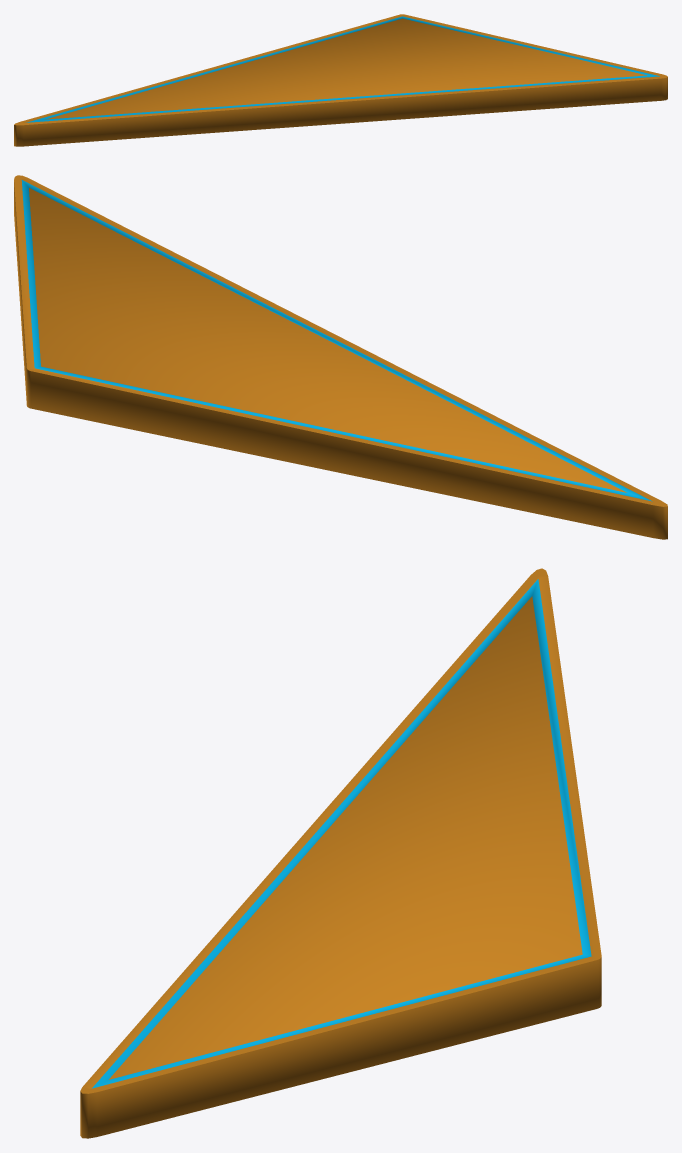
File: Re_Slingshot.fbx
3 views of the same model, one above another, from view 1: azimuth 30°, elevation 25°; view 2: azimuth 150°, elevation 25°; view 3: azimuth 270°, elevation 25° (orthographic). The views are drawn at different scales.
Parts seen in each view (by area): view 1: Re_Slingshot; view 2: Re_Slingshot; view 3: Re_Slingshot.
Part boxes in pixels (left/top/right/bottom): Re_Slingshot: left=14, top=14, right=667, bottom=146; Re_Slingshot: left=14, top=175, right=667, bottom=539; Re_Slingshot: left=80, top=568, right=601, bottom=1138.
Size of the model in its own units: 12.32 by 0.5338 by 5.16.
